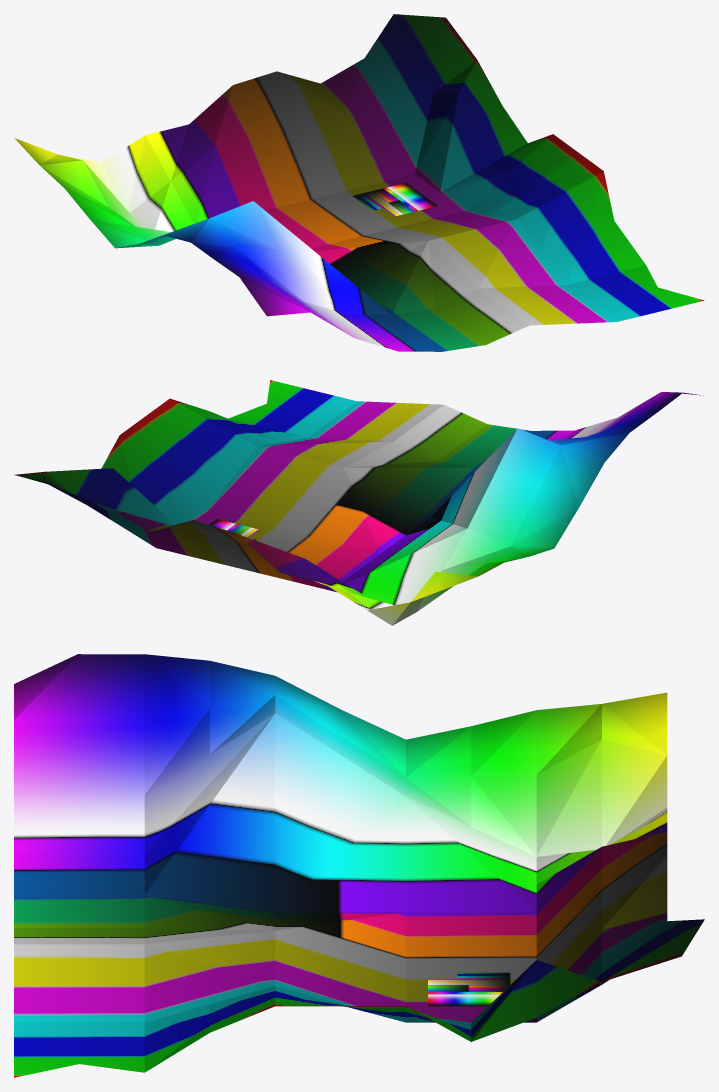
The model's file is floor.obj.
3 views of the same model, one above another, from view 1: azimuth 30°, elevation 25°; view 2: azimuth 150°, elevation 25°; view 3: azimuth 270°, elevation 25° (orthographic). The views are drawn at different scales.
Visible parts, largest first — view 1: Plane.002_Plane.001, Door.002_Plane.007; view 2: Plane.002_Plane.001, Door.002_Plane.007; view 3: Plane.002_Plane.001, Door.002_Plane.007.
Boxes of the visible parts, <box> form: Plane.002_Plane.001: <box>14,14,704,351</box>; Door.002_Plane.007: <box>353,183,437,216</box>; Plane.002_Plane.001: <box>14,380,703,625</box>; Door.002_Plane.007: <box>209,519,258,541</box>; Plane.002_Plane.001: <box>14,654,704,1077</box>; Door.002_Plane.007: <box>428,972,510,1006</box>.
Size of the model in its own units: 126 by 30.87 by 133.
Materials: 8 (5 with a texture image).
